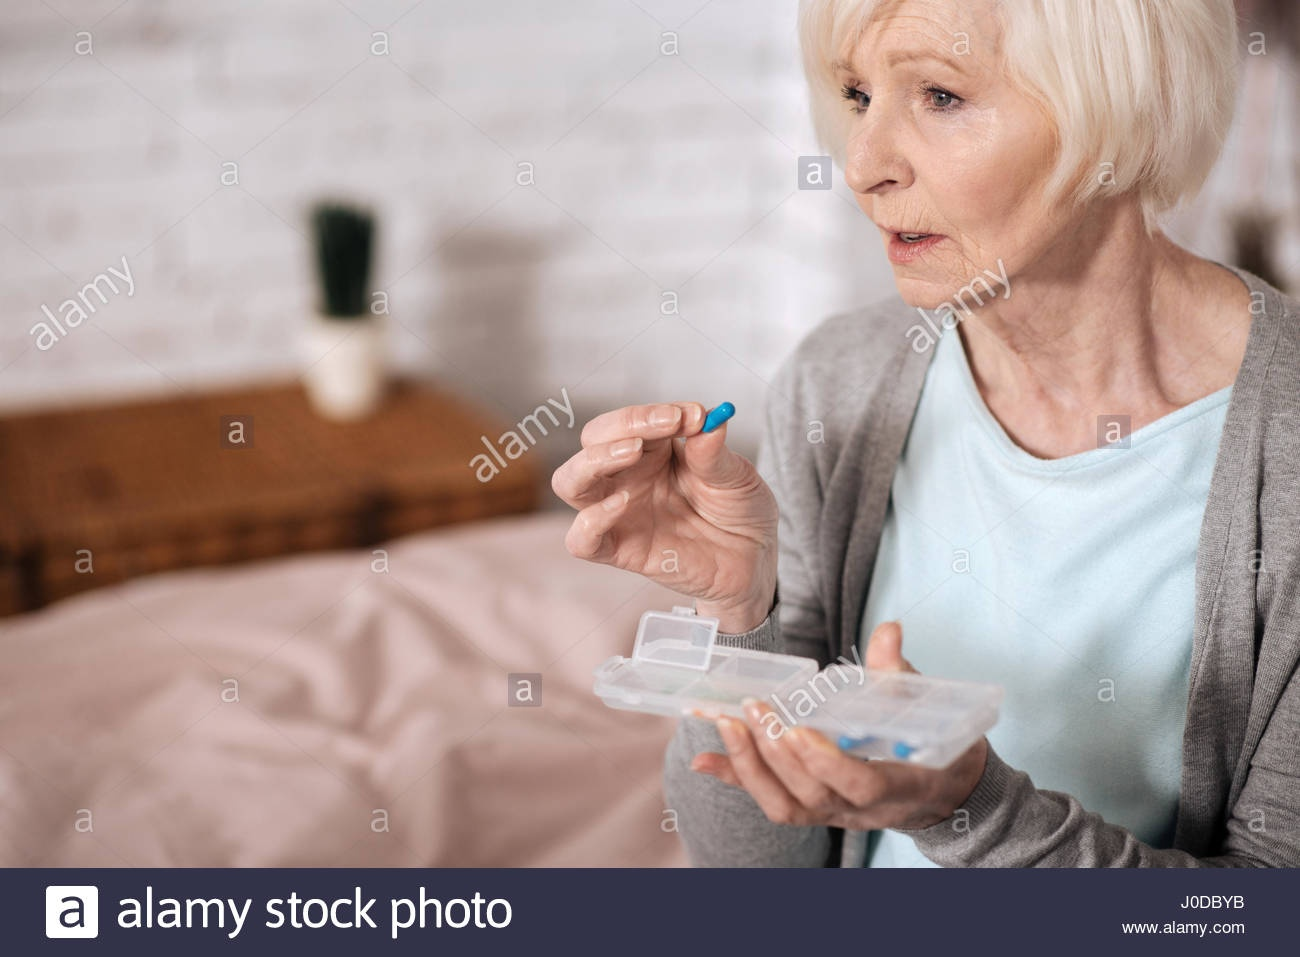pills: (691, 401, 739, 443)
